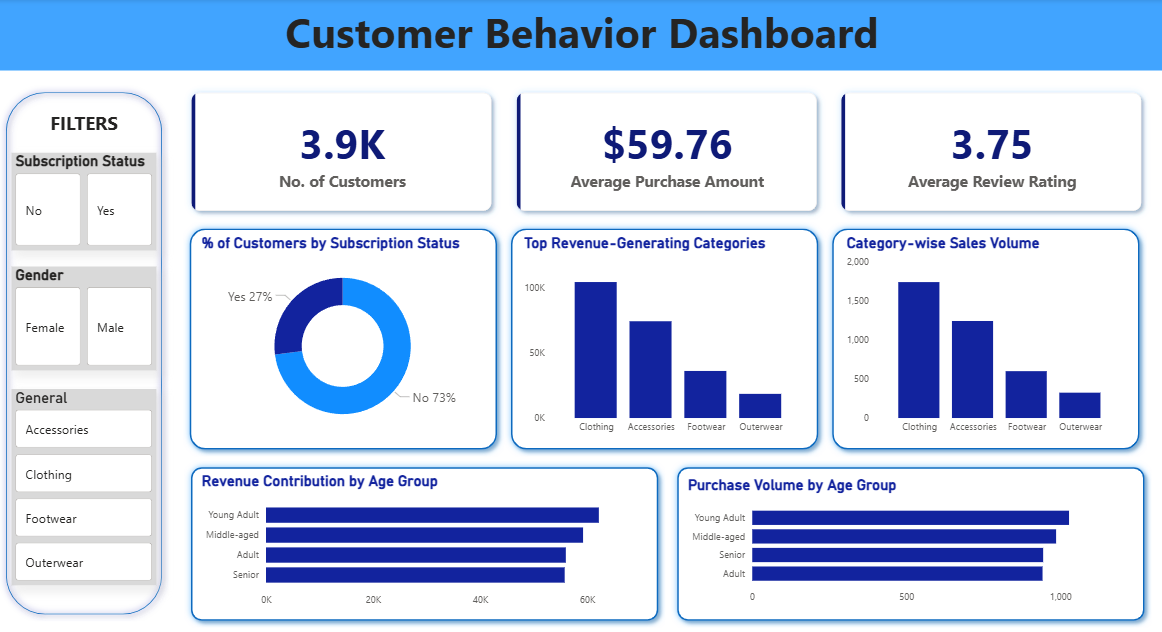

This screenshot's page, from the dashboard's own definition file:
{"tool":"powerbi","page":{"name":"Page 1","canvas":[1500,820],"ordinal":0},"visuals":[{"type":"cardVisual","fields":{"Data":["customer_behaviour cleaned_data.No. of Customers","customer_behaviour cleaned_data.Average Purchase Amount","customer_behaviour cleaned_data.Average Review Rating"]},"box":[218.7,91.7,1281.6,210.7],"z":0},{"type":"textbox","box":[0,0,1500.3,91.7],"z":1000},{"type":"shape","box":[236.4,286.2,413.3,302.3],"z":2000},{"type":"donutChart","title":"% of Customers by Subscription Status","fields":{"Category":["customer_behaviour cleaned_data.subscription_status"],"Y":["CountNonNull(customer_behaviour cleaned_data.customer_id)"]},"box":[255.7,302.3,373.1,266.9],"z":3000},{"type":"shape","box":[0,111,218.7,689.9],"z":4000},{"type":"advancedSlicerVisual","title":"Subscription Status","fields":{"Values":["customer_behaviour cleaned_data.subscription_status"]},"box":[16.1,197.8,186.5,125.4],"z":5000},{"type":"advancedSlicerVisual","title":"Gender","fields":{"Values":["customer_behaviour cleaned_data.gender"]},"box":[16.1,344.1,186.5,133.5],"z":6000},{"type":"advancedSlicerVisual","title":"General","fields":{"Values":["customer_behaviour cleaned_data.category"]},"box":[16.1,501.7,186.5,252.5],"z":7000},{"type":"shape","box":[863.5,593.4,619.1,215.5],"z":8000},{"type":"shape","box":[238,593.4,619.1,215.5],"z":9000},{"type":"clusteredBarChart","title":"Revenue Contribution by Age Group","fields":{"Category":["customer_behaviour cleaned_data.age_group"],"Y":["Sum(customer_behaviour cleaned_data.purchase_amount)"]},"box":[255.7,609.5,585.3,181.7],"z":10000},{"type":"clusteredBarChart","title":"Purchase Volume by Age Group","fields":{"Category":["customer_behaviour cleaned_data.age_group"],"Y":["CountNonNull(customer_behaviour cleaned_data.customer_id)"]},"box":[881.2,614.3,583.7,173.7],"z":11000},{"type":"shape","box":[649.7,286.2,413.3,302.3],"z":12000},{"type":"shape","box":[1062.9,286.2,413.3,302.3],"z":13000},{"type":"clusteredColumnChart","title":"Top Revenue-Generating Categories","fields":{"Y":["Sum(customer_behaviour cleaned_data.purchase_amount)"],"Category":["customer_behaviour cleaned_data.category"]},"box":[670.6,302.3,371.5,266.9],"z":14000},{"type":"clusteredColumnChart","title":"Category-wise Sales Volume","fields":{"Category":["customer_behaviour cleaned_data.category"],"Y":["CountNonNull(customer_behaviour cleaned_data.customer_id)"]},"box":[1085.4,302.3,366.6,266.9],"z":15000},{"type":"textbox","box":[48.2,138.3,122.2,46.6],"z":16000}]}

Visuals, with their boxes in screenshot pixels (x1, y1, x2, y2), scaled from the page's 1500x820 canvas onto the 1162x632 screenshot:
cardVisual - customer_behaviour cleaned_data.No. of Customers x customer_behaviour cleaned_data.Average Purchase Amount: region(169, 71, 1161, 233)
textbox: region(0, 0, 1161, 71)
shape: region(183, 221, 503, 454)
"% of Customers by Subscription Status" donutChart: region(198, 233, 487, 439)
shape: region(0, 86, 169, 617)
"Subscription Status" advancedSlicerVisual: region(12, 152, 157, 249)
"Gender" advancedSlicerVisual: region(12, 265, 157, 368)
"General" advancedSlicerVisual: region(12, 387, 157, 581)
shape: region(669, 457, 1149, 623)
shape: region(184, 457, 664, 623)
"Revenue Contribution by Age Group" clusteredBarChart: region(198, 470, 651, 610)
"Purchase Volume by Age Group" clusteredBarChart: region(683, 473, 1135, 607)
shape: region(503, 221, 823, 454)
shape: region(823, 221, 1144, 454)
"Top Revenue-Generating Categories" clusteredColumnChart: region(519, 233, 807, 439)
"Category-wise Sales Volume" clusteredColumnChart: region(841, 233, 1125, 439)
textbox: region(37, 107, 132, 143)
